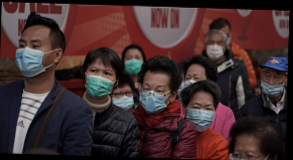mask_weared_incorrect: (261, 69, 287, 97)
with_mask: (15, 36, 56, 77), (84, 64, 117, 99), (139, 79, 172, 114), (185, 99, 216, 132), (111, 86, 135, 110), (123, 51, 146, 74), (203, 37, 227, 59)
